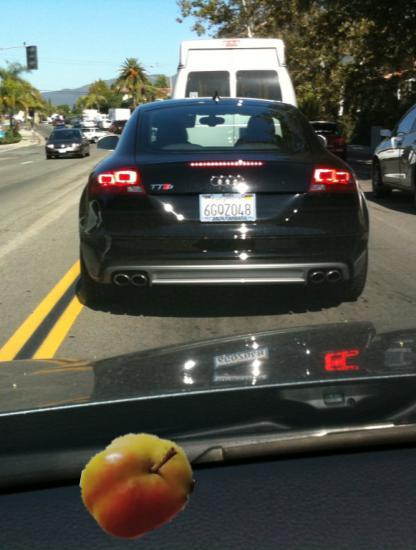Apple: (80, 430, 193, 543)
